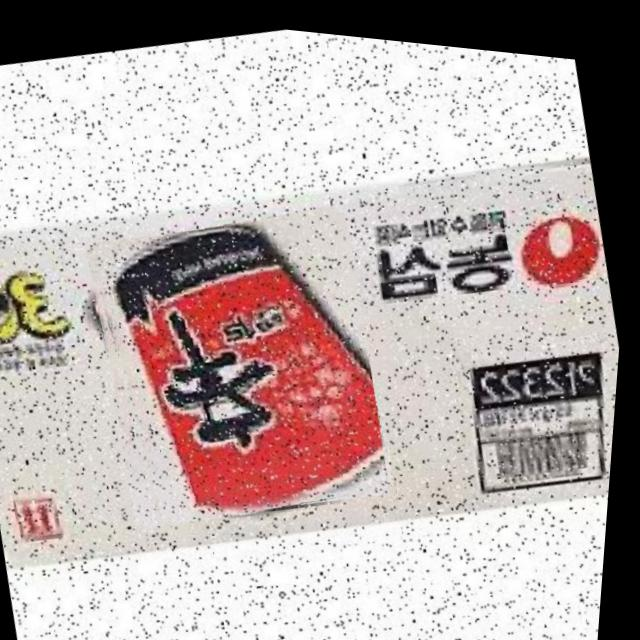Miscellaneous: (74, 178, 414, 546)
